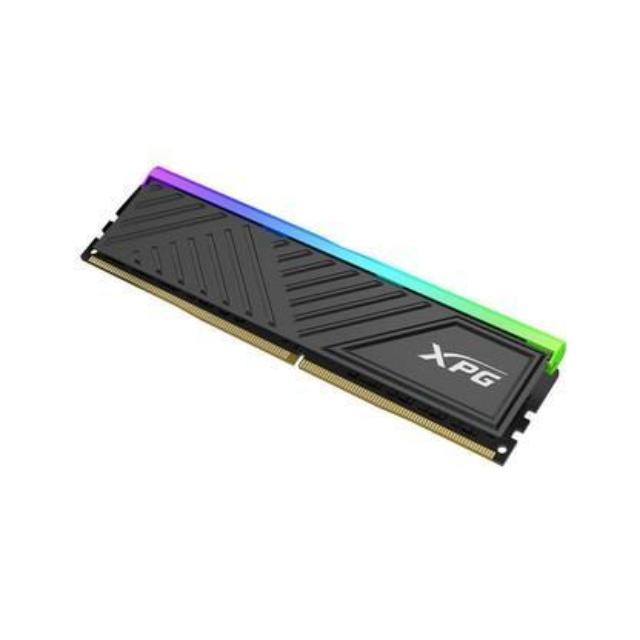RAM: (80, 156, 572, 464)
